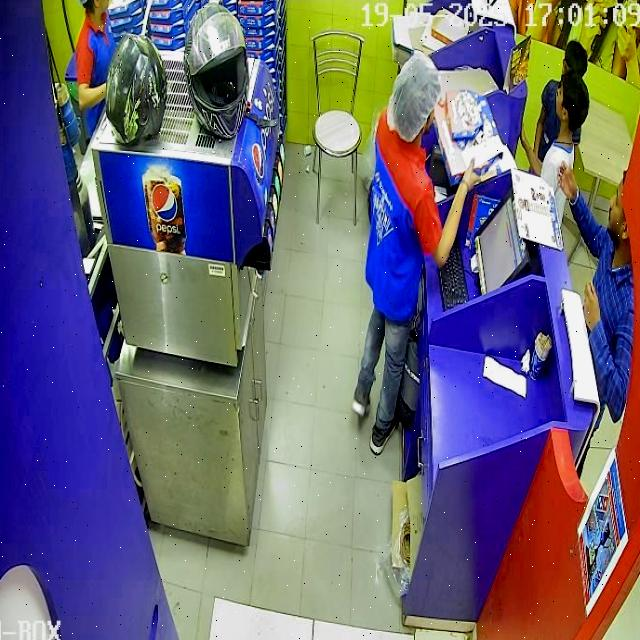helmet: (182, 1, 248, 142), (104, 33, 169, 154)
